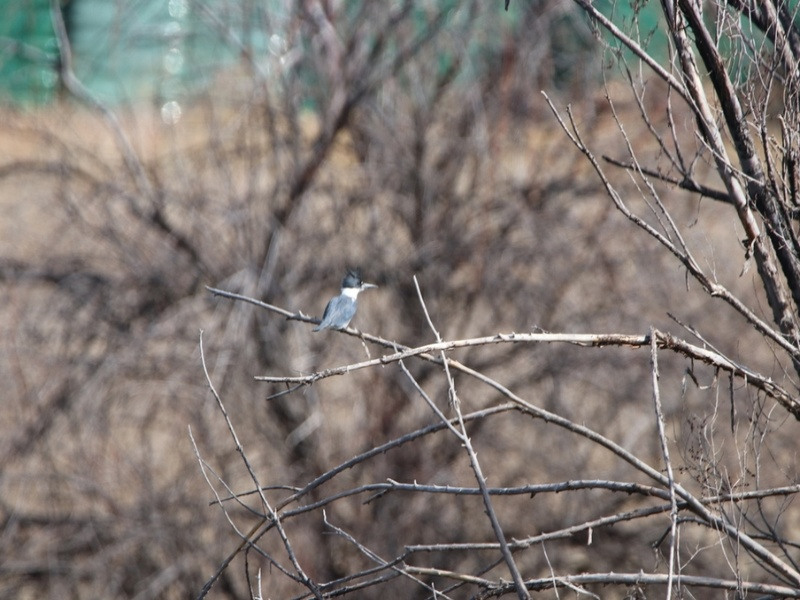kingfisher: (312, 270, 378, 335)
